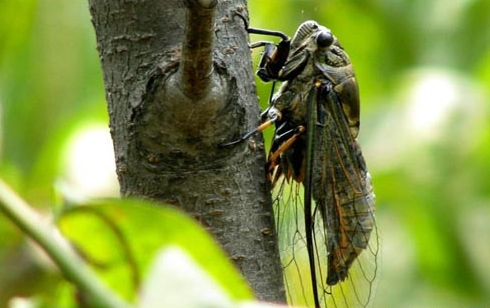chan: (244, 21, 384, 288)
